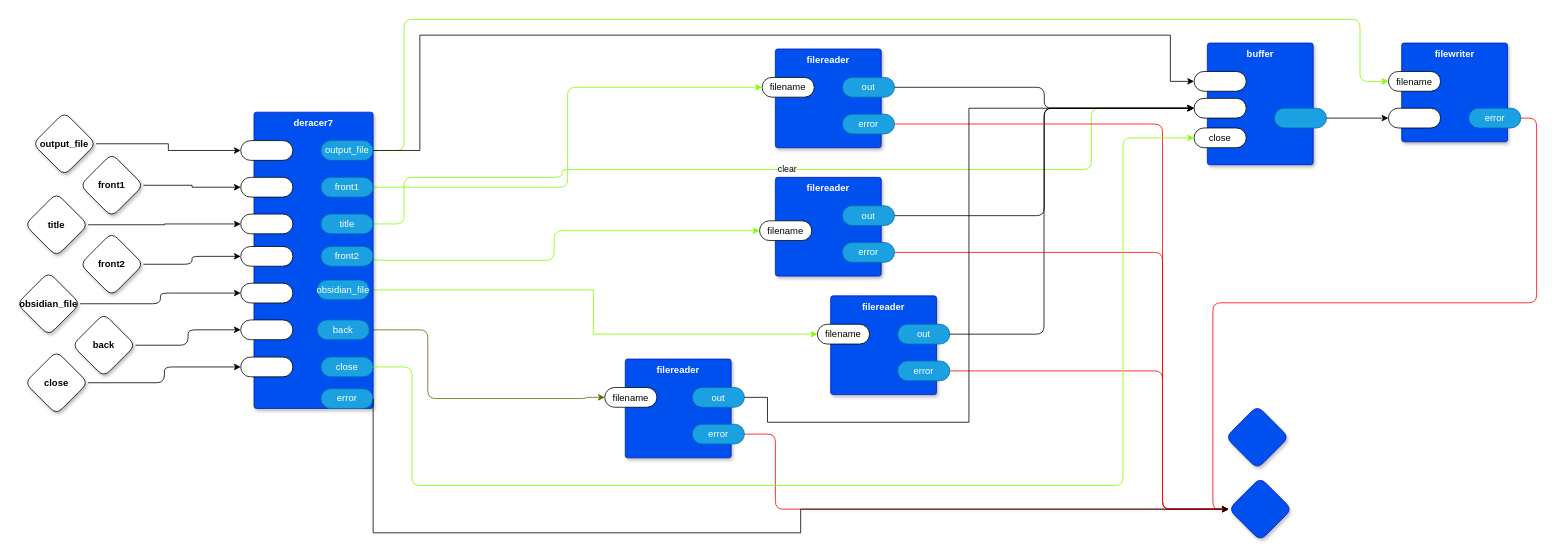
Some shapes in this 1557 by 560 pixel diagram are drawn without their labels. Each missing label, with the centre of its shape:
"append" goes at point (1219, 108).
"data" goes at point (1414, 117).
"input1" goes at point (266, 150).
"input2" goes at point (266, 187).
"input3" goes at point (266, 223).
"input4" goes at point (266, 256).
"input5" goes at point (266, 292).
"input6" goes at point (266, 329).
"input7" goes at point (266, 366).
"open" goes at point (1219, 81).
"output" goes at point (1300, 117).
"stderr" goes at point (1261, 510).
"stdout" goes at point (1258, 438).
